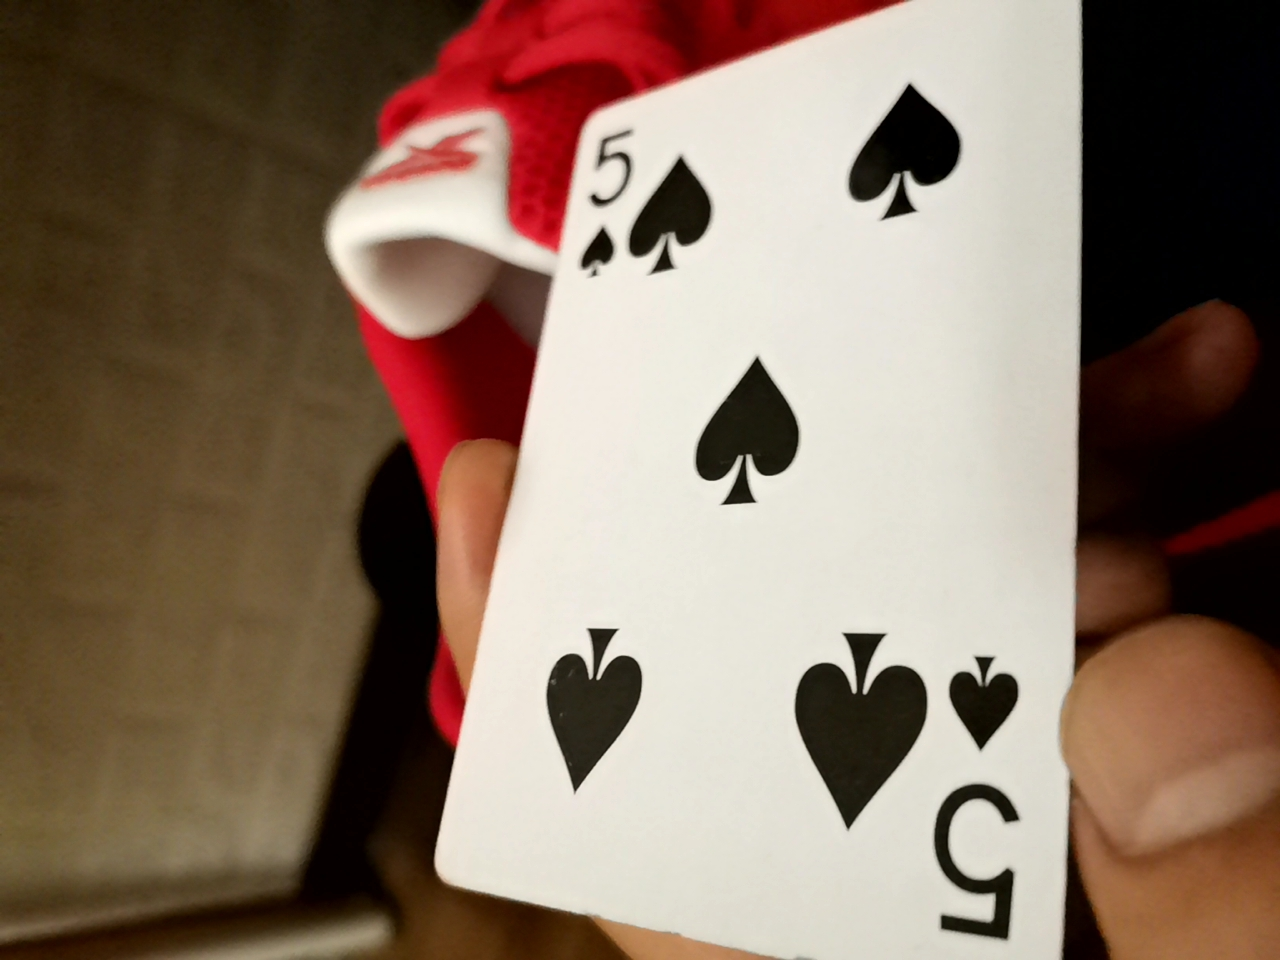ht 5: (407, 6, 1120, 959)
